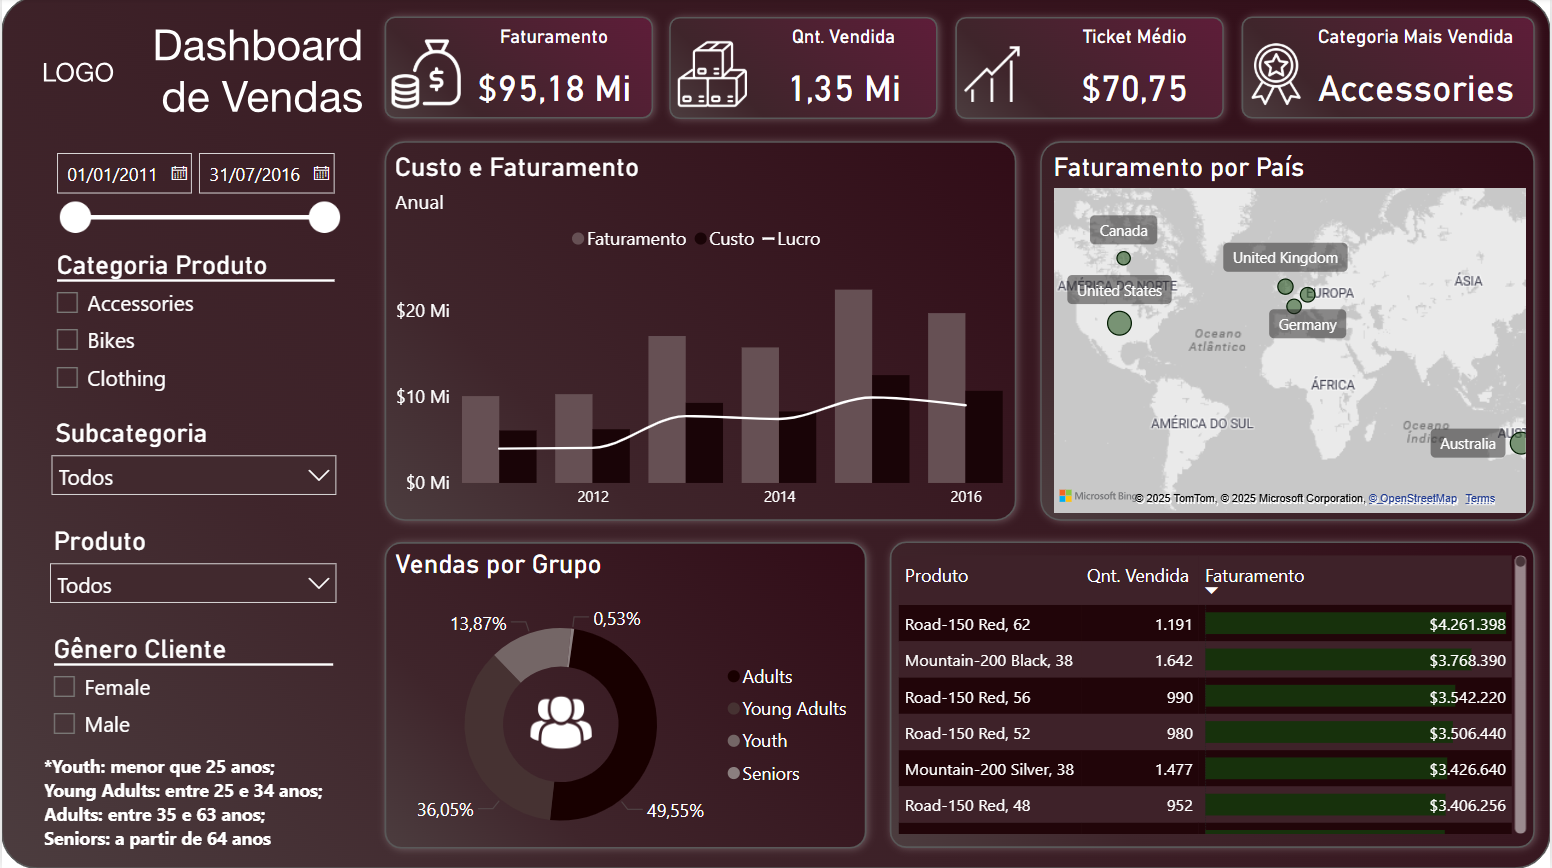

The page's visual inventory and layout, read from the dashboard file:
{"tool":"powerbi","page":{"name":"Relatório Vendas","canvas":[1280,720],"ordinal":0},"visuals":[{"type":"card","title":"Faturamento","fields":{"Values":["Sum(public sales_data.total_price)"]},"box":[368,23.4,176,80],"z":0},{"type":"card","title":"Qnt. Vendida","fields":{"Values":["Sum(public sales_data.order_quantity)"]},"box":[608,23.4,176,80],"z":1000},{"type":"card","title":"Categoria Mais Vendida","fields":{"Values":["Min(public sales_data.product_category)"]},"box":[1072,23.4,192,80],"z":2000},{"type":"card","title":"Ticket Médio","fields":{"Values":["public sales_data.ticket_medio"]},"box":[848,23.4,176,80],"z":3000},{"type":"slicer","fields":{"Values":["public sales_data.date"]},"box":[32.2,119,255.4,95.5],"z":4000},{"type":"slicer","fields":{"Values":["public sales_data.product_category"]},"box":[32.2,203.4,255.4,160],"z":5000},{"type":"slicer","fields":{"Values":["public sales_data.sub_category"]},"box":[31,342.2,255.4,79.4],"z":6000},{"type":"slicer","fields":{"Values":["public sales_data.product"]},"box":[29.8,431.5,256.7,85.6],"z":7000},{"type":"donutChart","title":"Vendas por Grupo","fields":{"Category":["public sales_data.age_group"],"Y":["Sum(public sales_data.total_price)"]},"box":[320.2,455.8,392.5,264.7],"z":8000},{"type":"map","title":"Faturamento por País","fields":{"Category":["public sales_data.country"],"Size":["Sum(public sales_data.total_price)"]},"box":[864,128,400,304],"z":9000},{"type":"tableEx","fields":{"Values":["public sales_data.product","Sum(public sales_data.order_quantity)","Sum(public sales_data.total_price)"]},"box":[734.7,455.8,529.4,240.2],"z":10000},{"type":"lineClusteredColumnComboChart","title":"Custo e Faturamento","fields":{"Y":["Sum(public sales_data.total_price)","Sum(public sales_data.total_cost)"],"Y2":["select"],"Category":["public sales_data.year"]},"box":[320,128,512,304],"z":11000},{"type":"slicer","fields":{"Values":["public sales_data.new_customer_gender"]},"box":[29.8,520.8,256.7,106.6],"z":12000},{"type":"image","box":[431.3,569.4,60.7,60.7],"z":13000},{"type":"textbox","box":[29.8,620,257.9,100.4],"z":14000}]}

Visuals, with their boxes in screenshot pixels (x1, y1, x2, y2), scaled from the page's 1280x720 canvas onto the 1552x868 screenshot:
"Faturamento" card: bbox=[446, 28, 660, 125]
"Qnt. Vendida" card: bbox=[737, 28, 951, 125]
"Categoria Mais Vendida" card: bbox=[1300, 28, 1533, 125]
"Ticket Médio" card: bbox=[1028, 28, 1242, 125]
slicer - public sales_data.date: bbox=[39, 143, 349, 259]
slicer - public sales_data.product_category: bbox=[39, 245, 349, 438]
slicer - public sales_data.sub_category: bbox=[38, 413, 347, 508]
slicer - public sales_data.product: bbox=[36, 520, 347, 623]
"Vendas por Grupo" donutChart: bbox=[388, 549, 864, 867]
"Faturamento por País" map: bbox=[1048, 154, 1533, 521]
tableEx - public sales_data.product x Sum(public sales_data.order_quantity): bbox=[891, 549, 1533, 839]
"Custo e Faturamento" lineClusteredColumnComboChart: bbox=[388, 154, 1009, 521]
slicer - public sales_data.new_customer_gender: bbox=[36, 628, 347, 756]
image: bbox=[523, 686, 597, 760]
textbox: bbox=[36, 747, 349, 867]
